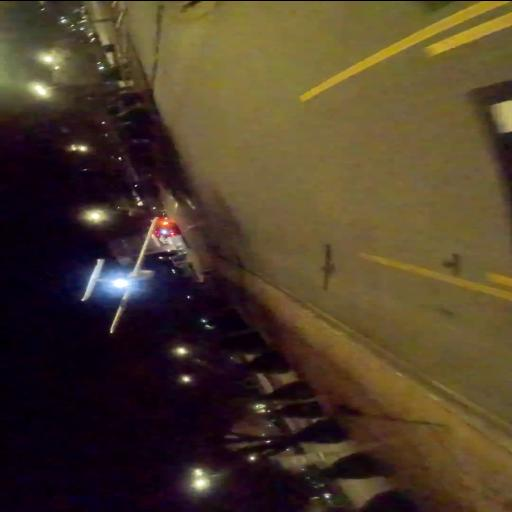uav: (79, 207, 166, 337)
